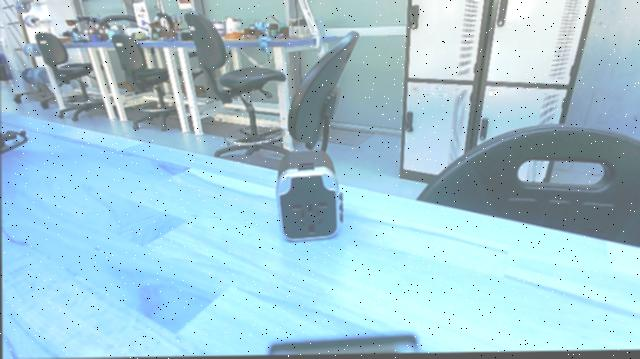adapter: (270, 148, 348, 244)
